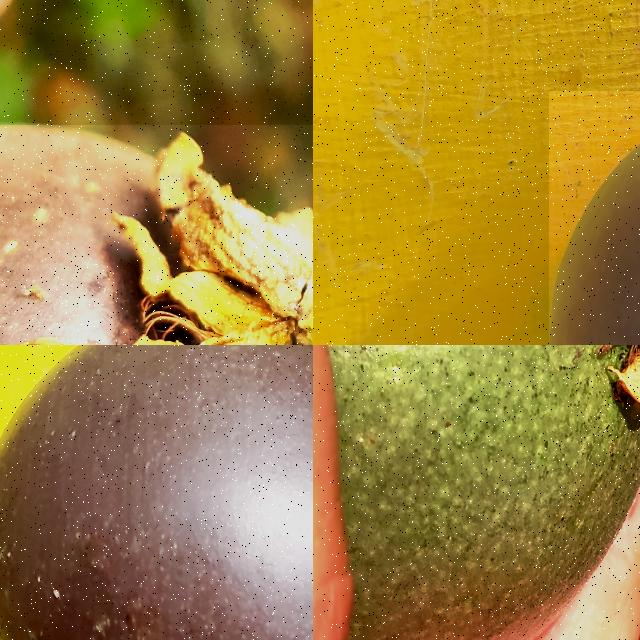Estado-1: (328, 345, 640, 640)
Estado-6: (0, 345, 313, 640), (0, 124, 313, 345)
